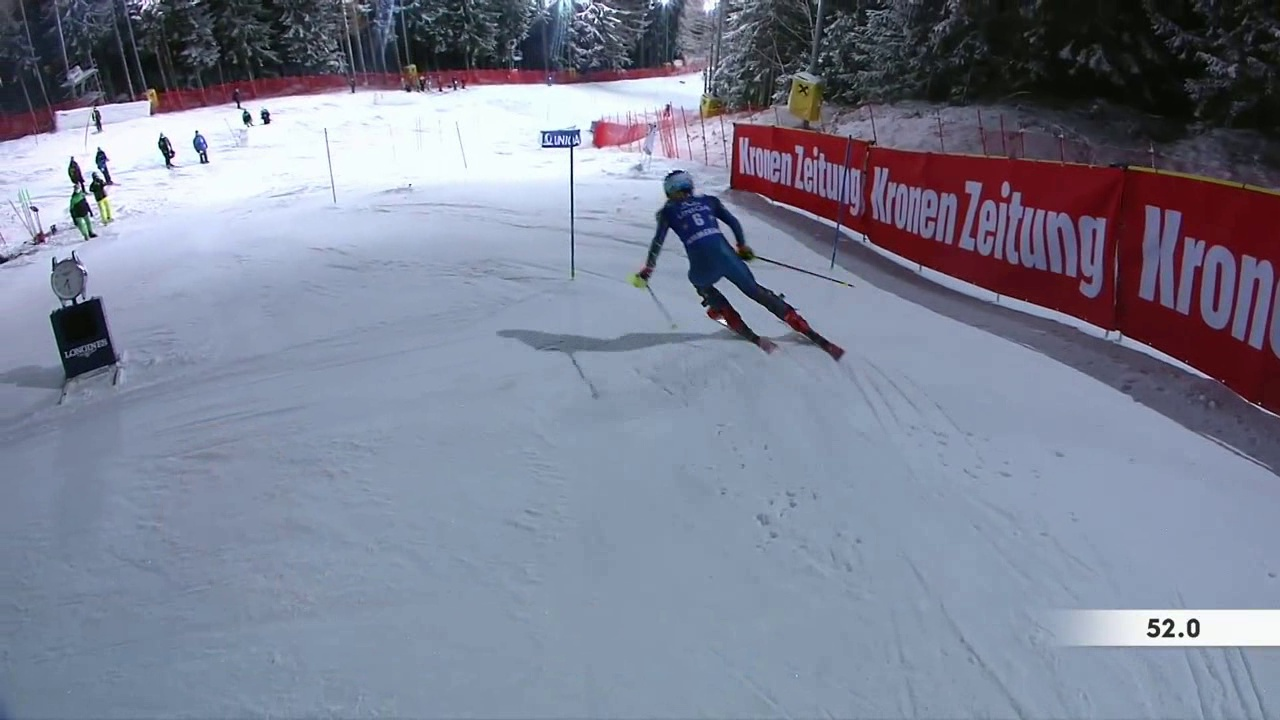kronenzeitung: (818, 164, 1098, 300), (1136, 204, 1279, 410)
